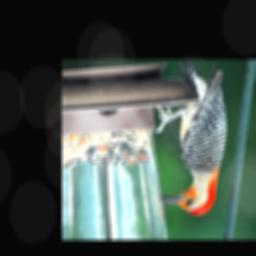Woodpecker: (154, 61, 230, 216)
